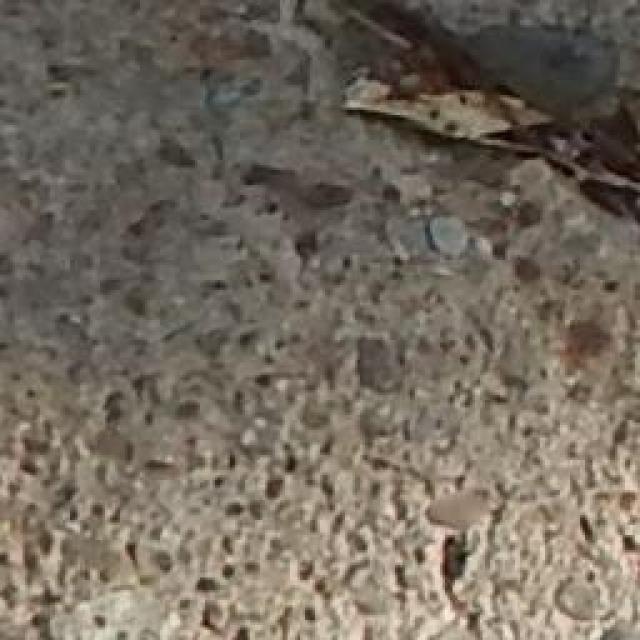concrete-crack: (292, 0, 640, 232)
